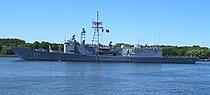MIL_Ship: (10, 26, 200, 64)
